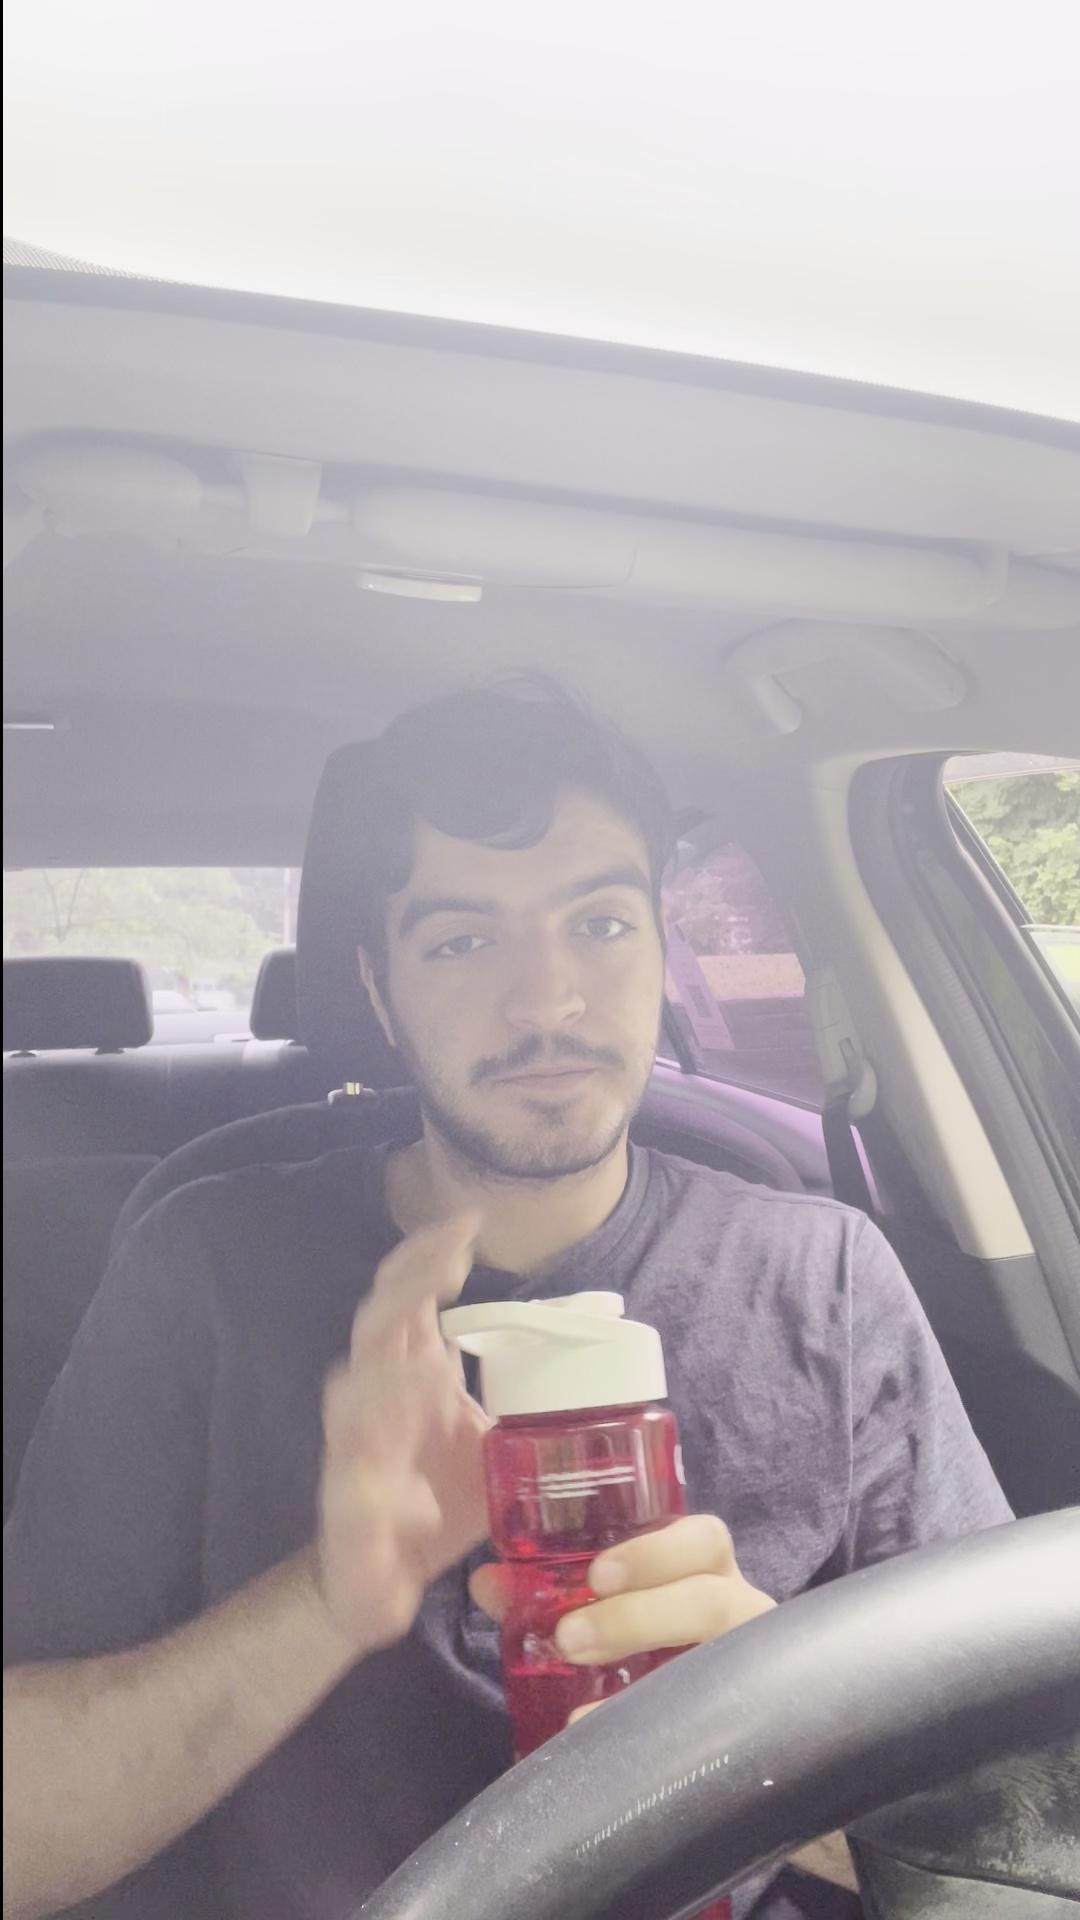drinking: (417, 1274, 770, 1710)
